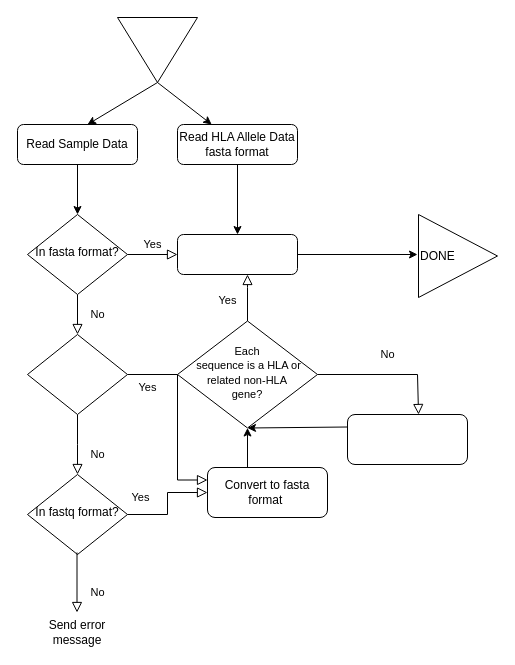
Image size: 515x665. Some labels were removed from this diagram. The shapes that lost their labels are listed below. From the top down, each one's centre as x and y in pixels, then its label:
At pixel 157 49: "START".
At pixel 237 254: "Match with HLA Alleles".
At pixel 77 374: "In SAM/BAM format?".
At pixel 407 439: "Skip sequence".
